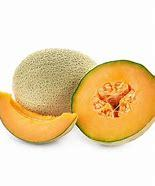Melon Ripe: (72, 60, 155, 147), (12, 48, 97, 115), (0, 91, 78, 144)
